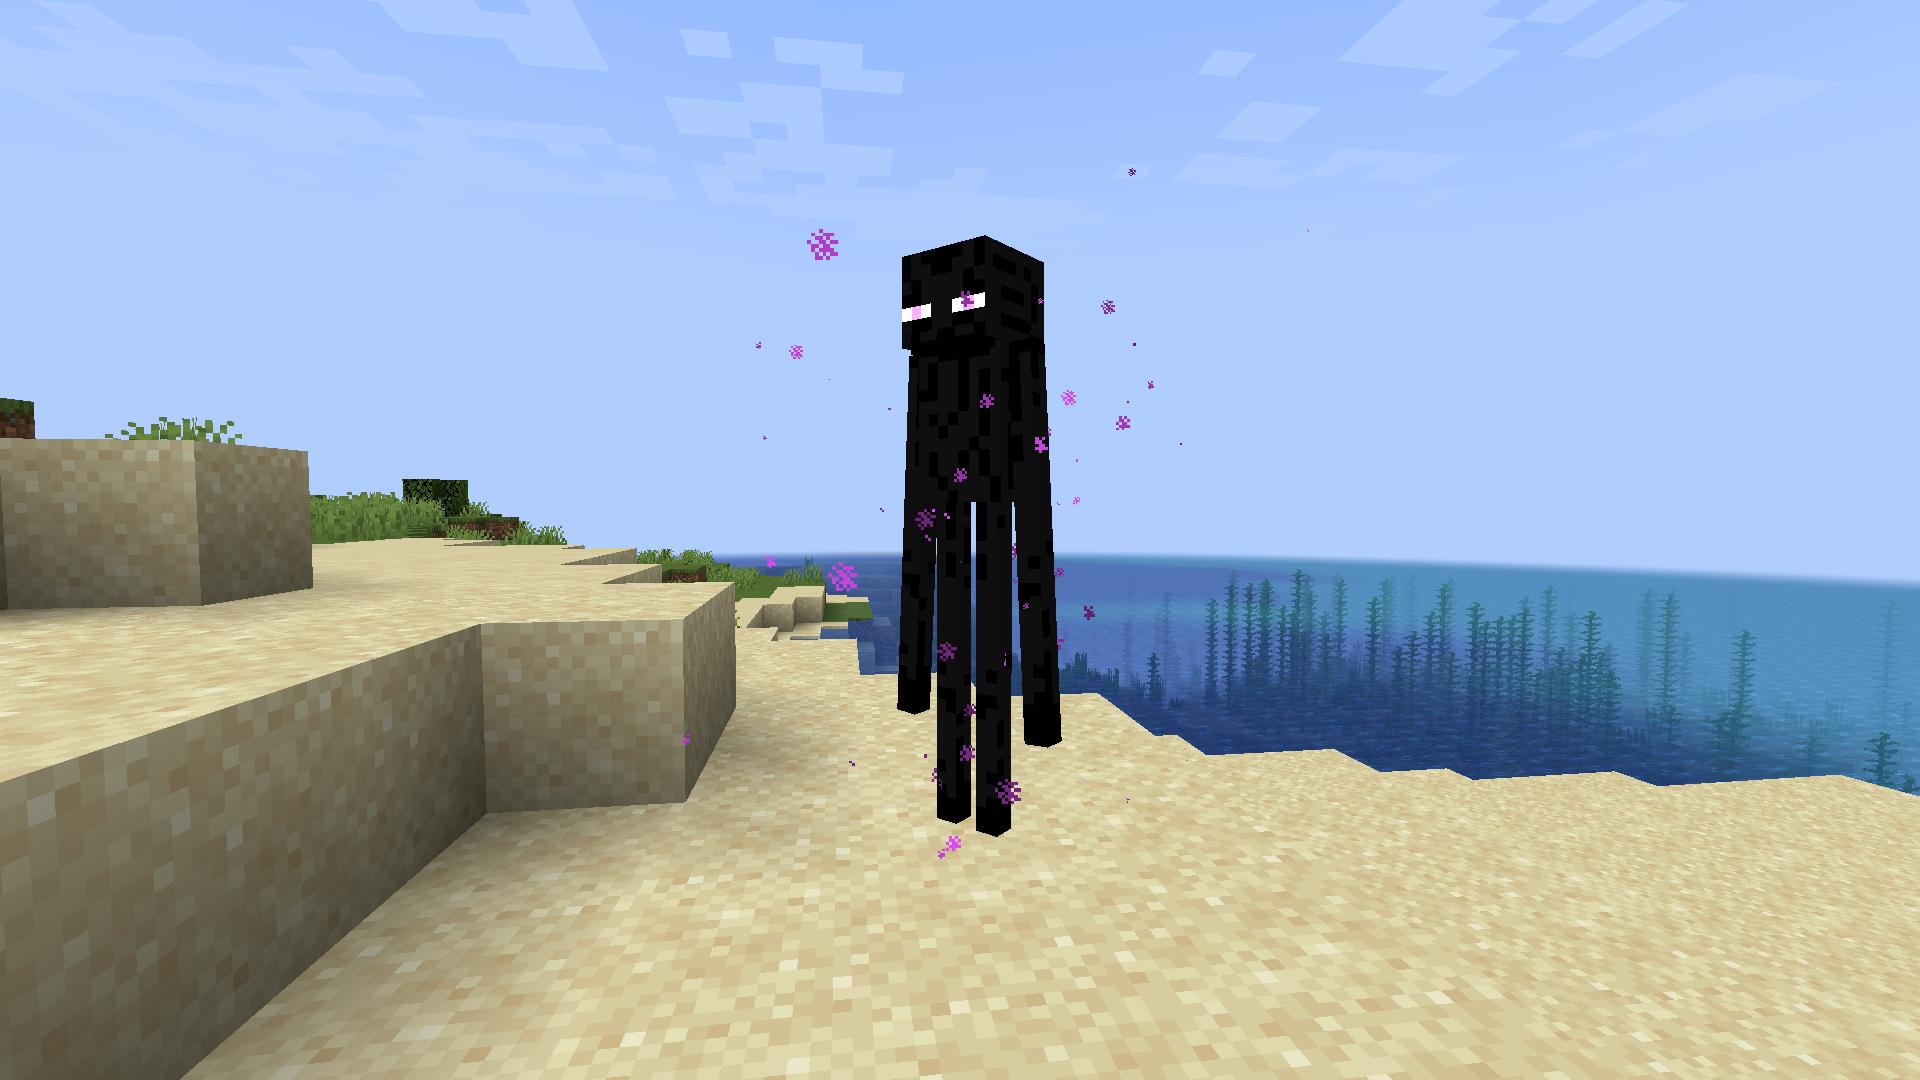enderman: (890, 224, 1068, 873)
